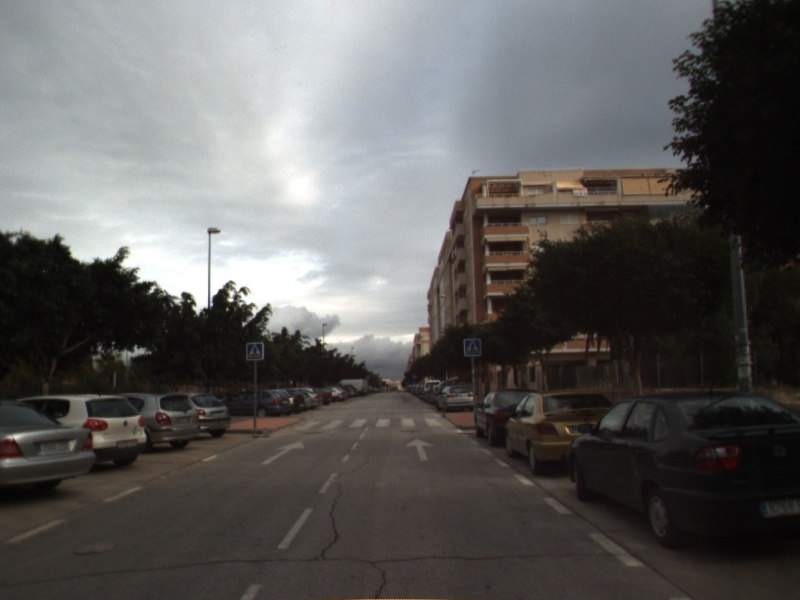STRAIGHT: (259, 439, 307, 466), (404, 436, 436, 463)
